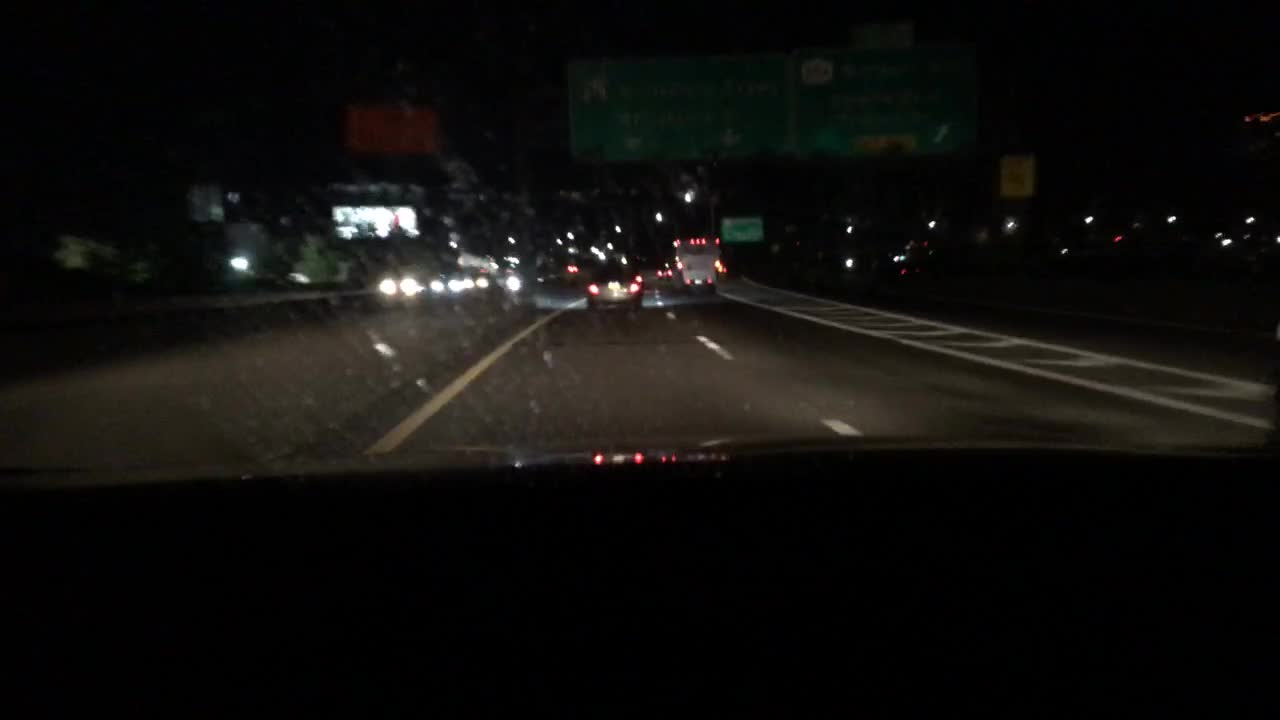car: (587, 262, 645, 308), (377, 266, 426, 303), (427, 271, 472, 298), (484, 267, 524, 296), (464, 267, 490, 287), (655, 267, 672, 278)
traffic sign: (565, 57, 792, 162), (797, 52, 981, 157), (346, 104, 434, 154), (999, 156, 1036, 198), (722, 217, 760, 242)
truck: (675, 237, 719, 292)
